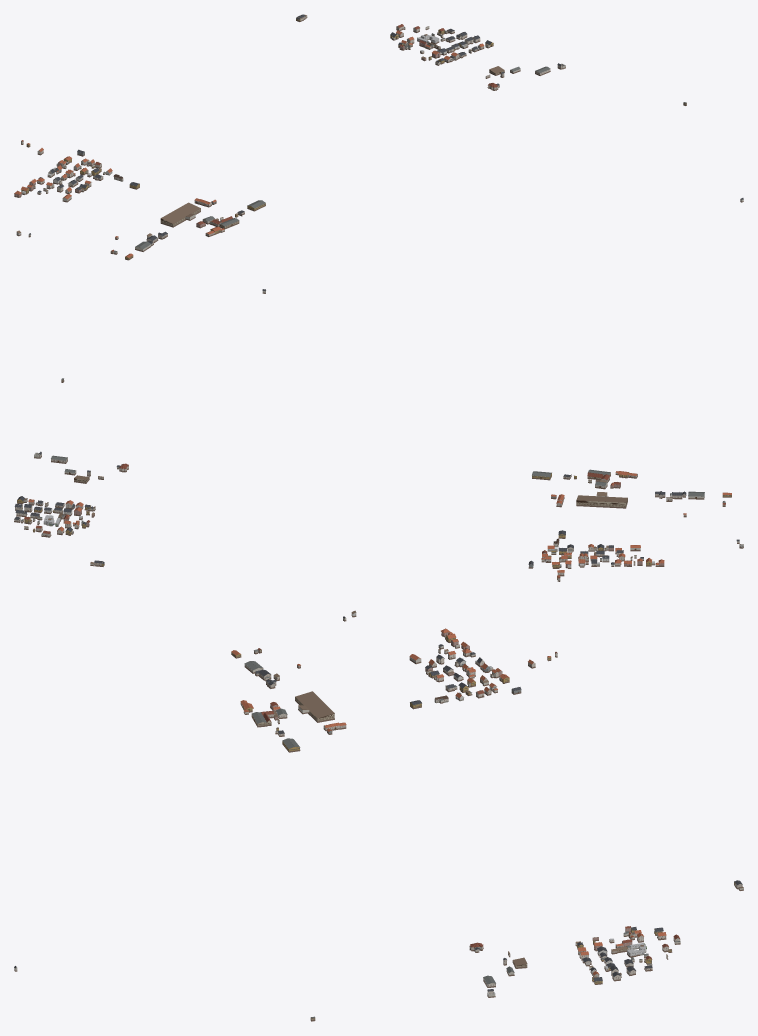
Rendered from village_outskirts.glb.
The picture shows the model from 3 angles, top to bottom: view 1: azimuth 30°, elevation 25°; view 2: azimuth 150°, elevation 25°; view 3: azimuth 270°, elevation 25°; orthographic projection. The views are drawn at different scales.
Parts seen in each view (by area): view 1: village_outskirts; view 2: village_outskirts; view 3: village_outskirts.
Boxes of the visible parts, x1,y1,x2,y2 form: village_outskirts: [14, 14, 743, 260]; village_outskirts: [14, 289, 743, 581]; village_outskirts: [14, 610, 743, 1021].
Size of the model in its own units: 1570 by 83.84 by 1252.
24 materials, 21 textured.
